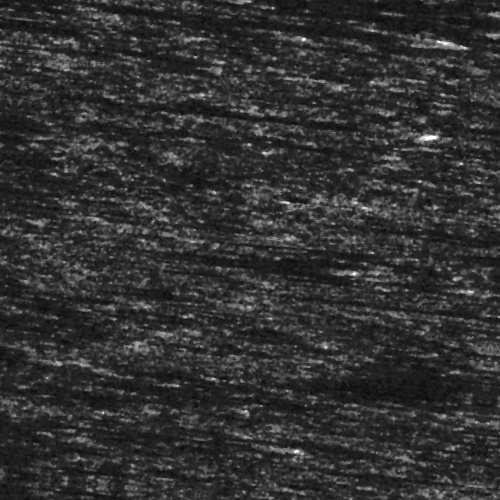object: (12, 371, 127, 386), (364, 14, 437, 29), (309, 251, 362, 268), (228, 27, 291, 38), (17, 27, 80, 34), (0, 0, 100, 4), (429, 263, 492, 268), (483, 285, 500, 292)
shadow: (0, 14, 401, 29), (99, 251, 336, 268), (0, 27, 259, 38), (290, 285, 500, 292), (0, 371, 69, 386), (76, 114, 400, 117), (429, 99, 500, 110), (383, 263, 460, 268), (0, 27, 49, 34)
